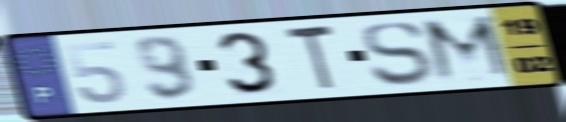3: (214, 28, 281, 98)
5: (61, 39, 129, 105)
9: (133, 33, 199, 103)
M: (417, 13, 518, 86)
S: (358, 19, 435, 89)
T: (282, 22, 339, 95)
